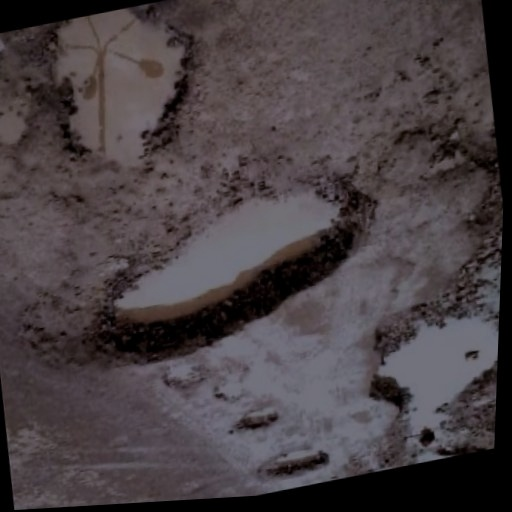pothole: (2, 148, 388, 395), (335, 173, 504, 474), (36, 0, 216, 193), (413, 120, 499, 186), (253, 440, 332, 488), (158, 358, 210, 396), (0, 106, 34, 156), (231, 404, 281, 437), (210, 369, 252, 408)
